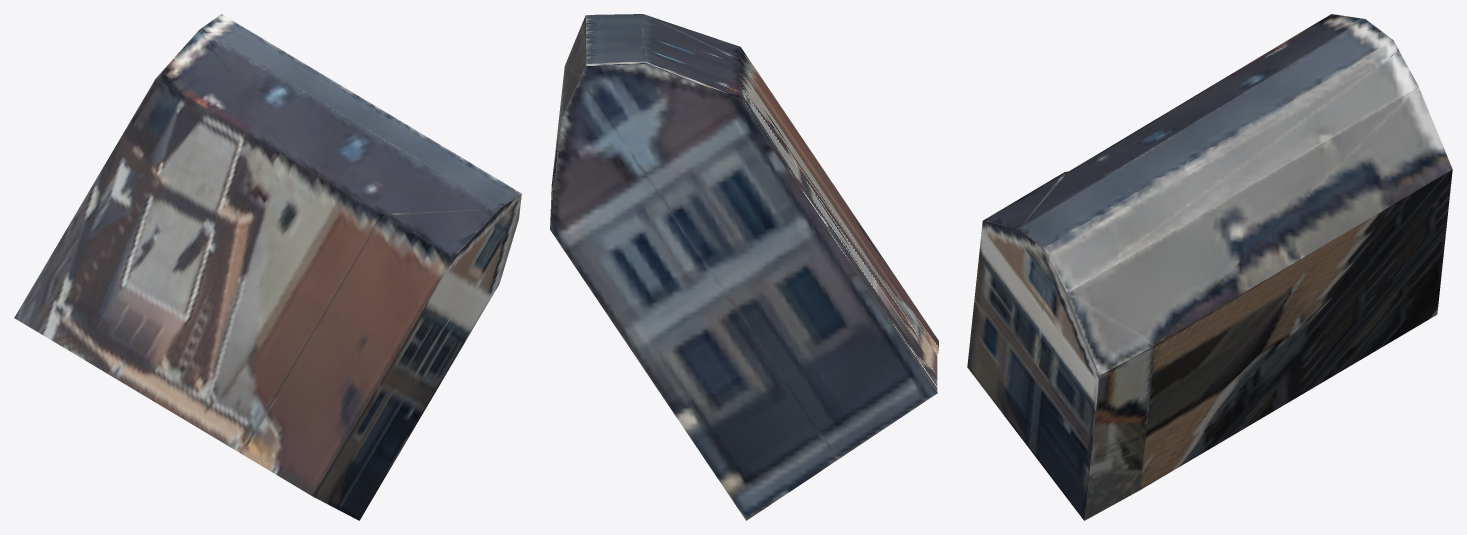
3 renders of one model, left to right at view 1: azimuth 30°, elevation 25°; view 2: azimuth 150°, elevation 25°; view 3: azimuth 270°, elevation 25°, orthographic. The views are drawn at different scales.
Visible parts, largest first — view 1: BAG_0599100000241229 (×6); view 2: BAG_0599100000241229 (×6); view 3: BAG_0599100000241229 (×6).
Boxes of the visible parts, x1,y1,x2,y2 form: BAG_0599100000241229 (×6): (14,14,521,520); BAG_0599100000241229 (×6): (550,14,938,520); BAG_0599100000241229 (×6): (967,14,1452,520).
Size of the model in its own units: 16.35 by 16.19 by 14.85.
1 material, 1 textured.
